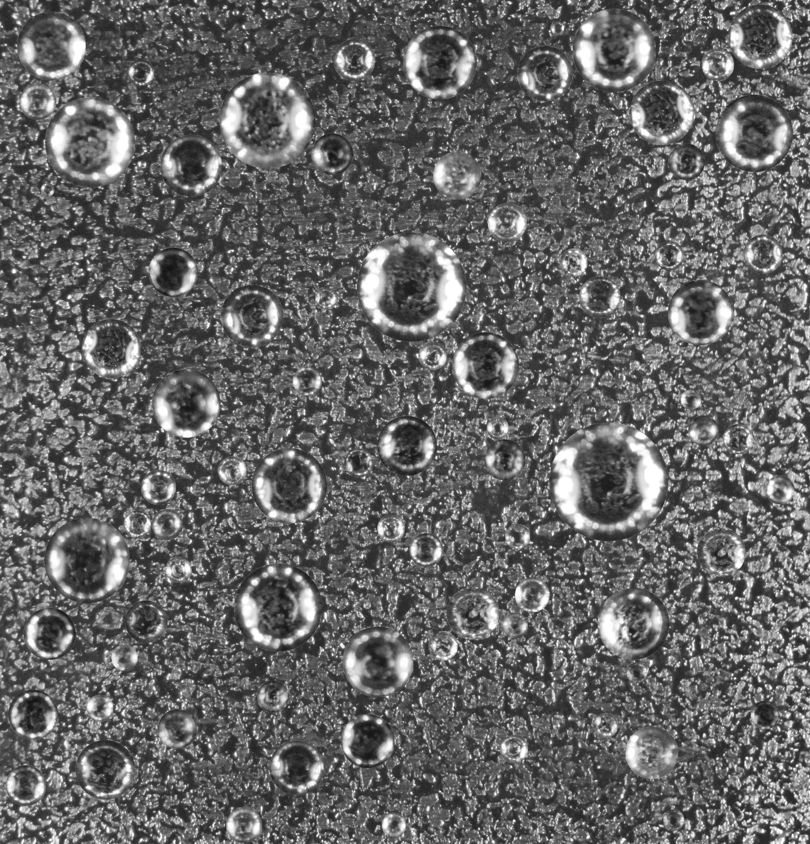Bubble: (549, 422, 668, 541), (357, 232, 466, 341), (219, 72, 315, 168), (45, 97, 134, 187), (234, 563, 322, 651), (44, 517, 129, 603), (572, 8, 656, 91), (715, 94, 793, 171), (251, 448, 326, 523), (403, 25, 476, 99), (597, 588, 669, 659), (342, 626, 413, 697), (17, 11, 85, 80), (152, 369, 220, 437), (452, 332, 518, 398), (668, 280, 733, 345), (629, 80, 694, 144), (728, 4, 792, 68), (220, 284, 283, 347), (160, 134, 221, 196), (75, 740, 135, 799), (377, 416, 436, 475), (81, 319, 140, 377), (517, 45, 572, 101), (269, 740, 323, 795), (340, 714, 394, 768), (625, 726, 678, 779), (446, 587, 499, 639), (23, 607, 75, 659), (8, 689, 57, 739), (148, 247, 197, 296), (697, 528, 745, 576), (433, 151, 481, 199), (125, 600, 167, 642), (311, 133, 353, 174), (333, 39, 375, 80), (579, 276, 620, 317), (484, 439, 525, 480), (5, 765, 46, 805), (157, 709, 197, 748), (487, 203, 526, 242), (743, 234, 782, 273), (668, 143, 704, 180), (19, 83, 56, 119), (226, 807, 261, 843), (515, 577, 549, 612), (141, 470, 175, 504), (409, 533, 443, 566), (701, 48, 734, 80), (257, 680, 288, 712), (151, 509, 182, 540), (688, 415, 718, 445), (723, 424, 752, 454), (217, 456, 246, 485), (292, 366, 321, 395), (655, 241, 684, 270), (765, 475, 794, 504), (344, 448, 373, 477), (750, 700, 779, 729), (428, 631, 457, 660), (418, 341, 447, 369), (499, 735, 528, 763), (559, 248, 587, 276), (377, 514, 404, 542), (123, 510, 150, 537), (86, 694, 113, 721), (127, 59, 154, 85), (111, 644, 137, 671), (165, 556, 191, 582), (502, 612, 527, 638), (381, 812, 406, 837), (593, 713, 618, 737), (505, 524, 530, 548), (315, 287, 337, 309), (486, 417, 508, 439), (626, 662, 647, 683), (663, 809, 684, 830), (681, 389, 701, 409), (40, 182, 54, 196), (550, 21, 564, 35)
